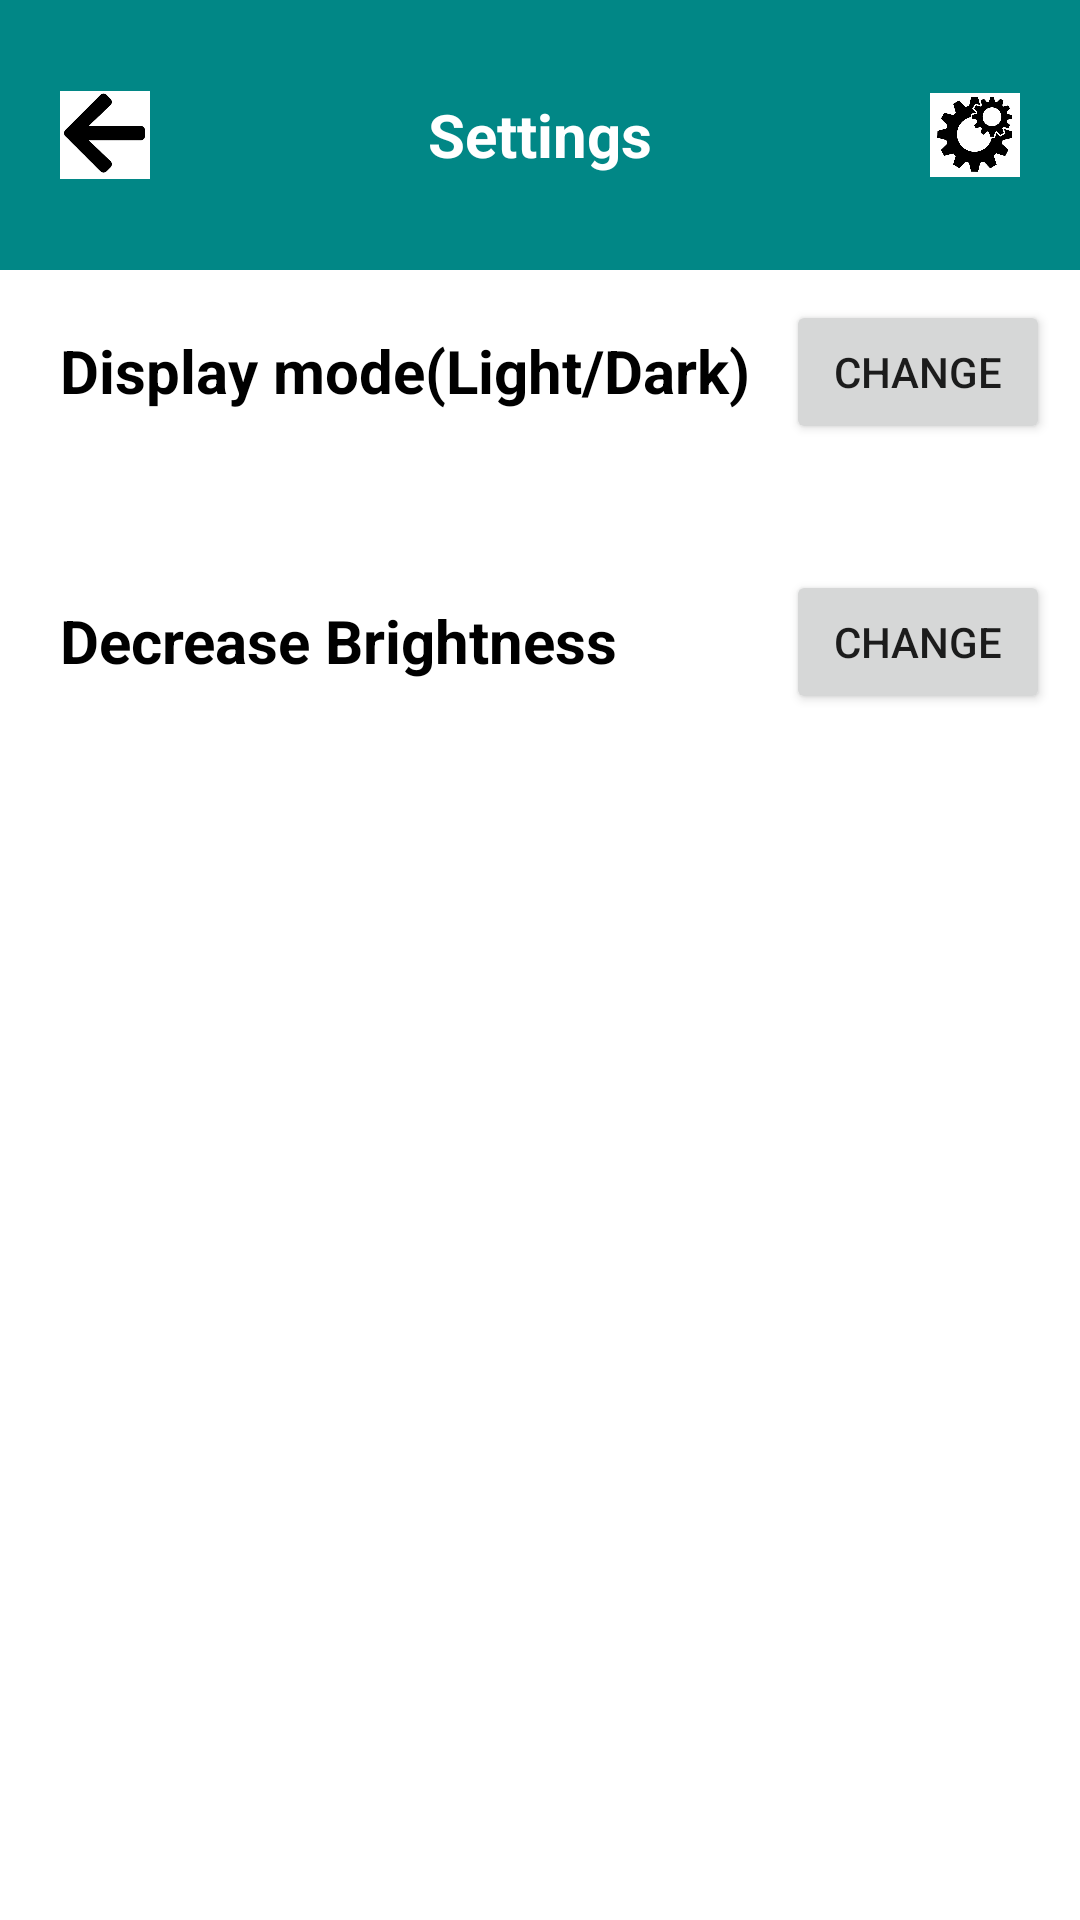

Screen size 1080px×1920px. Icon name, then its box in pixels as (x1, y1, x2, y2):
back: (60, 91, 150, 179)
settings: (930, 93, 1020, 177)
